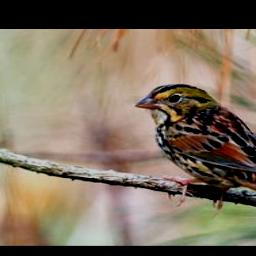Sparrow: (133, 82, 256, 232)
